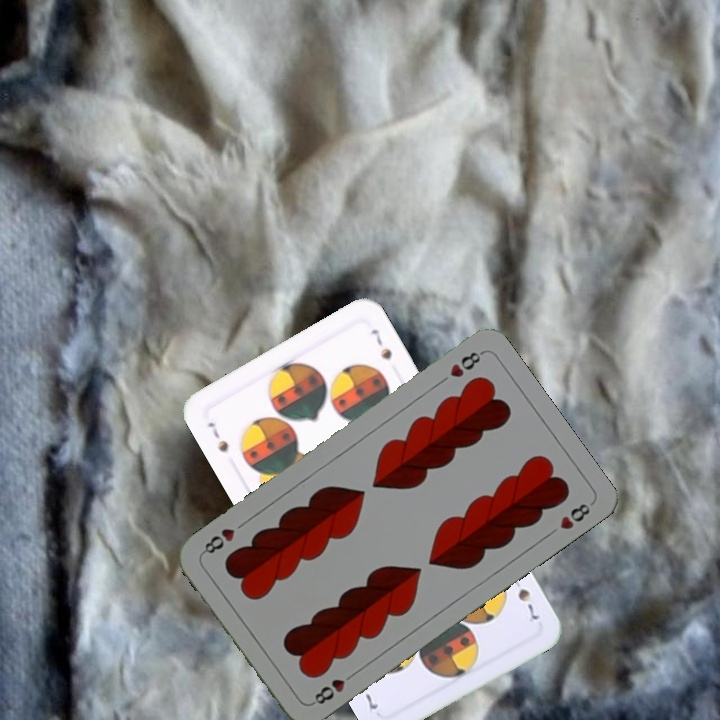H8: (307, 667, 359, 708), (445, 347, 486, 380)
S7: (508, 571, 541, 626), (203, 417, 231, 455)
